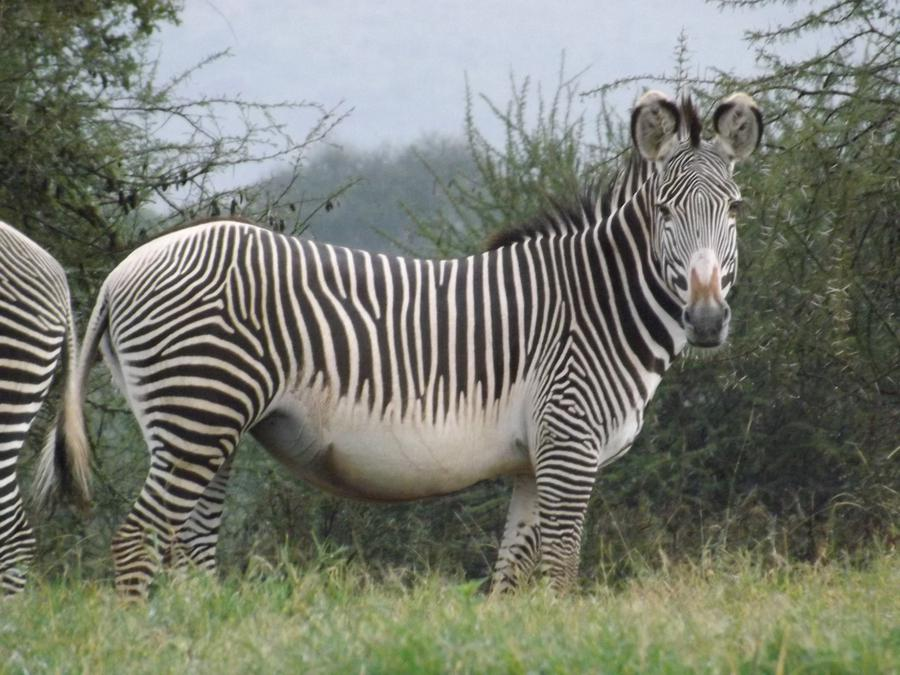zebra_grevys: (118, 228, 604, 466)
